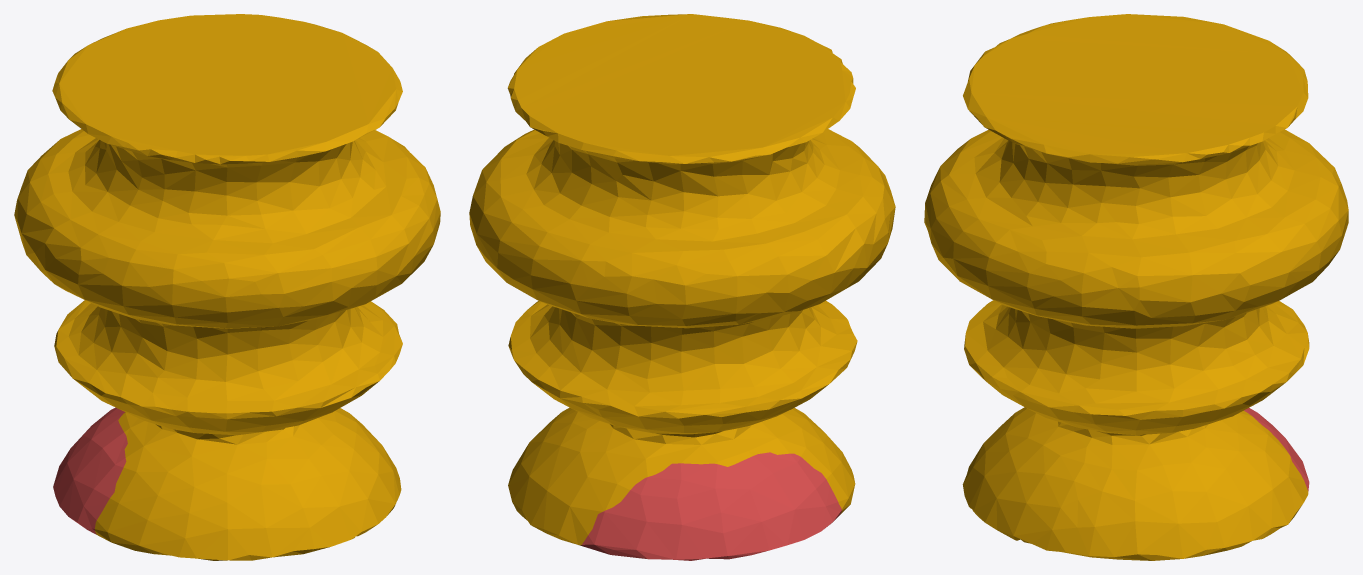
The model's file is fractured_42_2pcs.glb.
3 renders of one model, left to right at view 1: azimuth 30°, elevation 25°; view 2: azimuth 150°, elevation 25°; view 3: azimuth 270°, elevation 25°, orthographic.
Parts seen in each view (by area): view 1: piece_0.obj, piece_1.obj; view 2: piece_0.obj, piece_1.obj; view 3: piece_0.obj, piece_1.obj.
Boxes of the visible parts, x1=… form: piece_0.obj: x1=14, y1=14, x2=440, y2=560; piece_1.obj: x1=53, y1=407, x2=127, y2=534; piece_0.obj: x1=469, y1=14, x2=895, y2=545; piece_1.obj: x1=581, y1=452, x2=841, y2=560; piece_0.obj: x1=924, y1=14, x2=1348, y2=560; piece_1.obj: x1=1244, y1=408, x2=1309, y2=491.
Bounding box in the file's own units: 0.9504 × 1 × 0.95.
